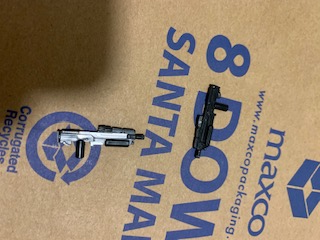rifle: (51, 118, 146, 163), (190, 80, 228, 161)
